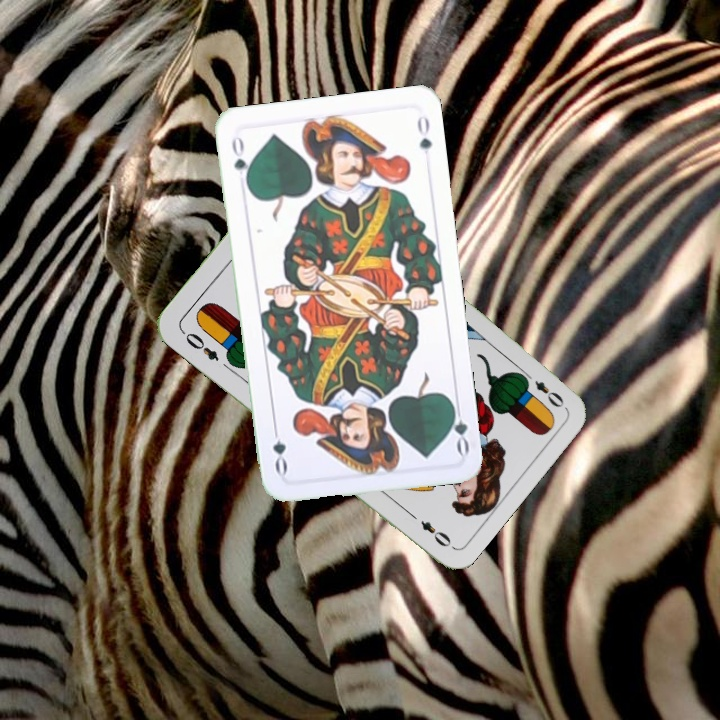EO: (518, 366, 567, 411), (177, 326, 222, 364)
GO: (444, 397, 472, 457), (227, 132, 253, 190)
